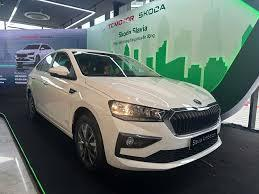skoda: (193, 98, 202, 105)
